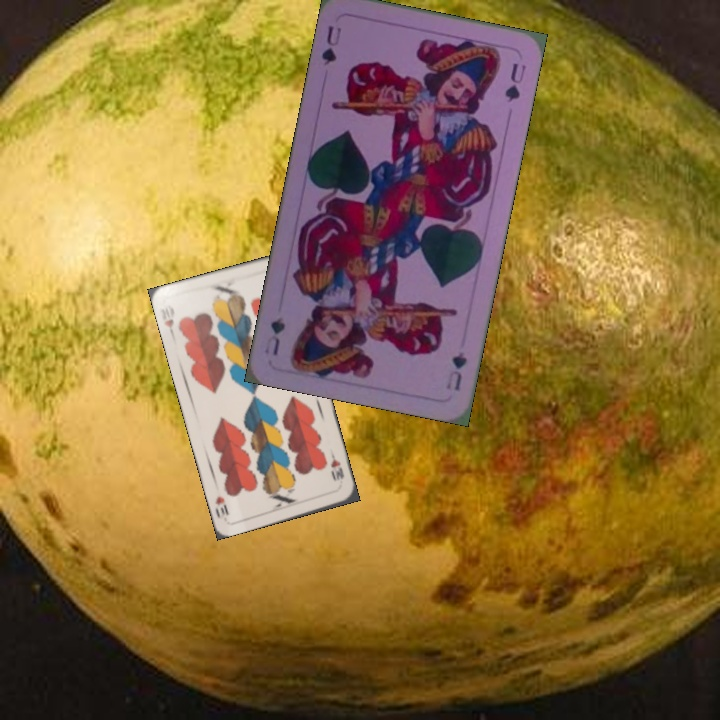GU: (442, 347, 470, 393), (317, 21, 344, 68)
H10: (327, 449, 347, 484), (160, 301, 177, 340)
